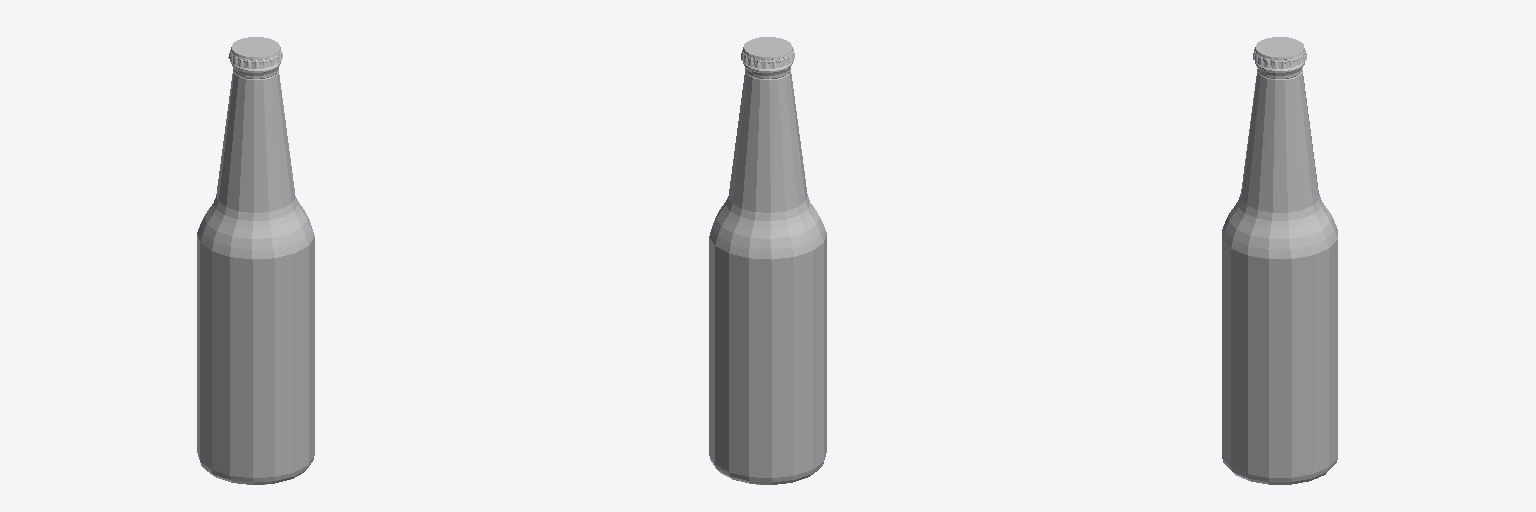
The model's file is Bottle_1.obj.
The picture shows the model from 3 angles: view 1: azimuth 30°, elevation 25°; view 2: azimuth 150°, elevation 25°; view 3: azimuth 270°, elevation 25°; orthographic projection.
Parts seen in each view (by area): view 1: uploads_files_[number redacted]_Drinks.015, uploads_files_[number redacted]_Drinks.014; view 2: uploads_files_[number redacted]_Drinks.015, uploads_files_[number redacted]_Drinks.014; view 3: uploads_files_[number redacted]_Drinks.015, uploads_files_[number redacted]_Drinks.014.
Boxes of the visible parts, <box> form: uploads_files_[number redacted]_Drinks.015: <box>197,51,314,484</box>; uploads_files_[number redacted]_Drinks.014: <box>228,37,282,68</box>; uploads_files_[number redacted]_Drinks.015: <box>709,52,826,484</box>; uploads_files_[number redacted]_Drinks.014: <box>741,37,794,68</box>; uploads_files_[number redacted]_Drinks.015: <box>1222,53,1337,484</box>; uploads_files_[number redacted]_Drinks.014: <box>1253,37,1306,68</box>.
Bounding box in the file's own units: 1.01 × 4.03 × 1.01.